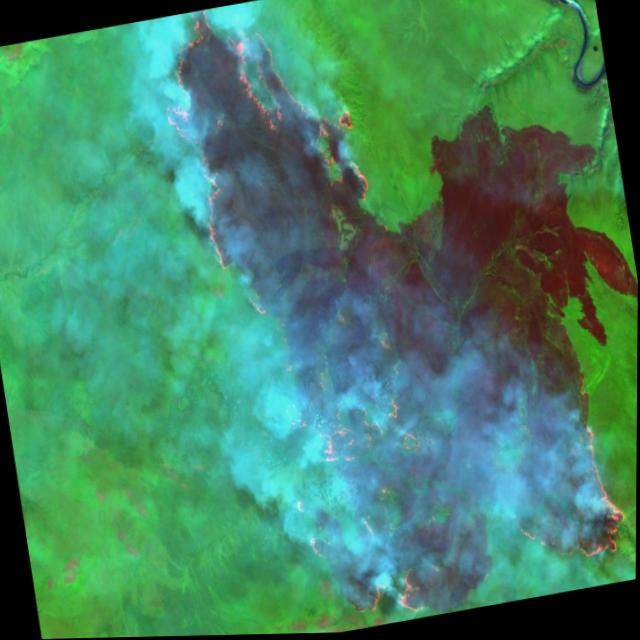fire: (268, 339, 638, 635), (144, 0, 392, 335)
